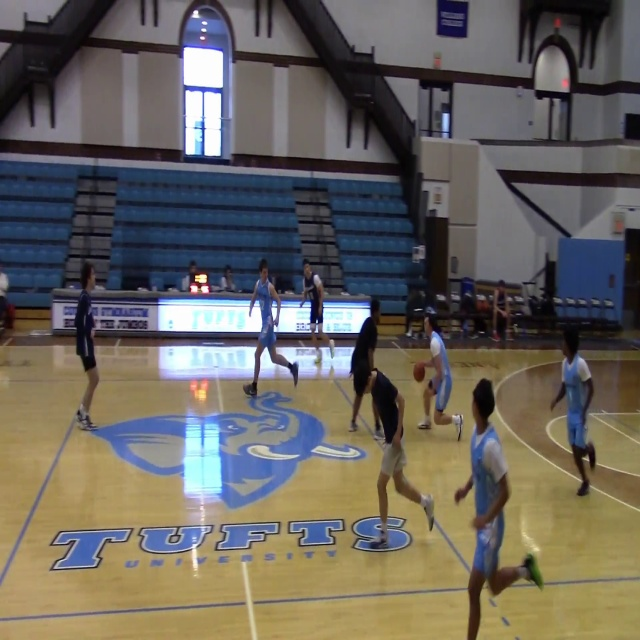Basketball: (413, 362, 425, 382)
